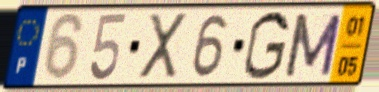5: (88, 11, 129, 82)
6: (40, 10, 88, 85), (190, 12, 230, 80)
G: (241, 9, 292, 82)
M: (281, 12, 345, 80)
X: (137, 11, 190, 82)
